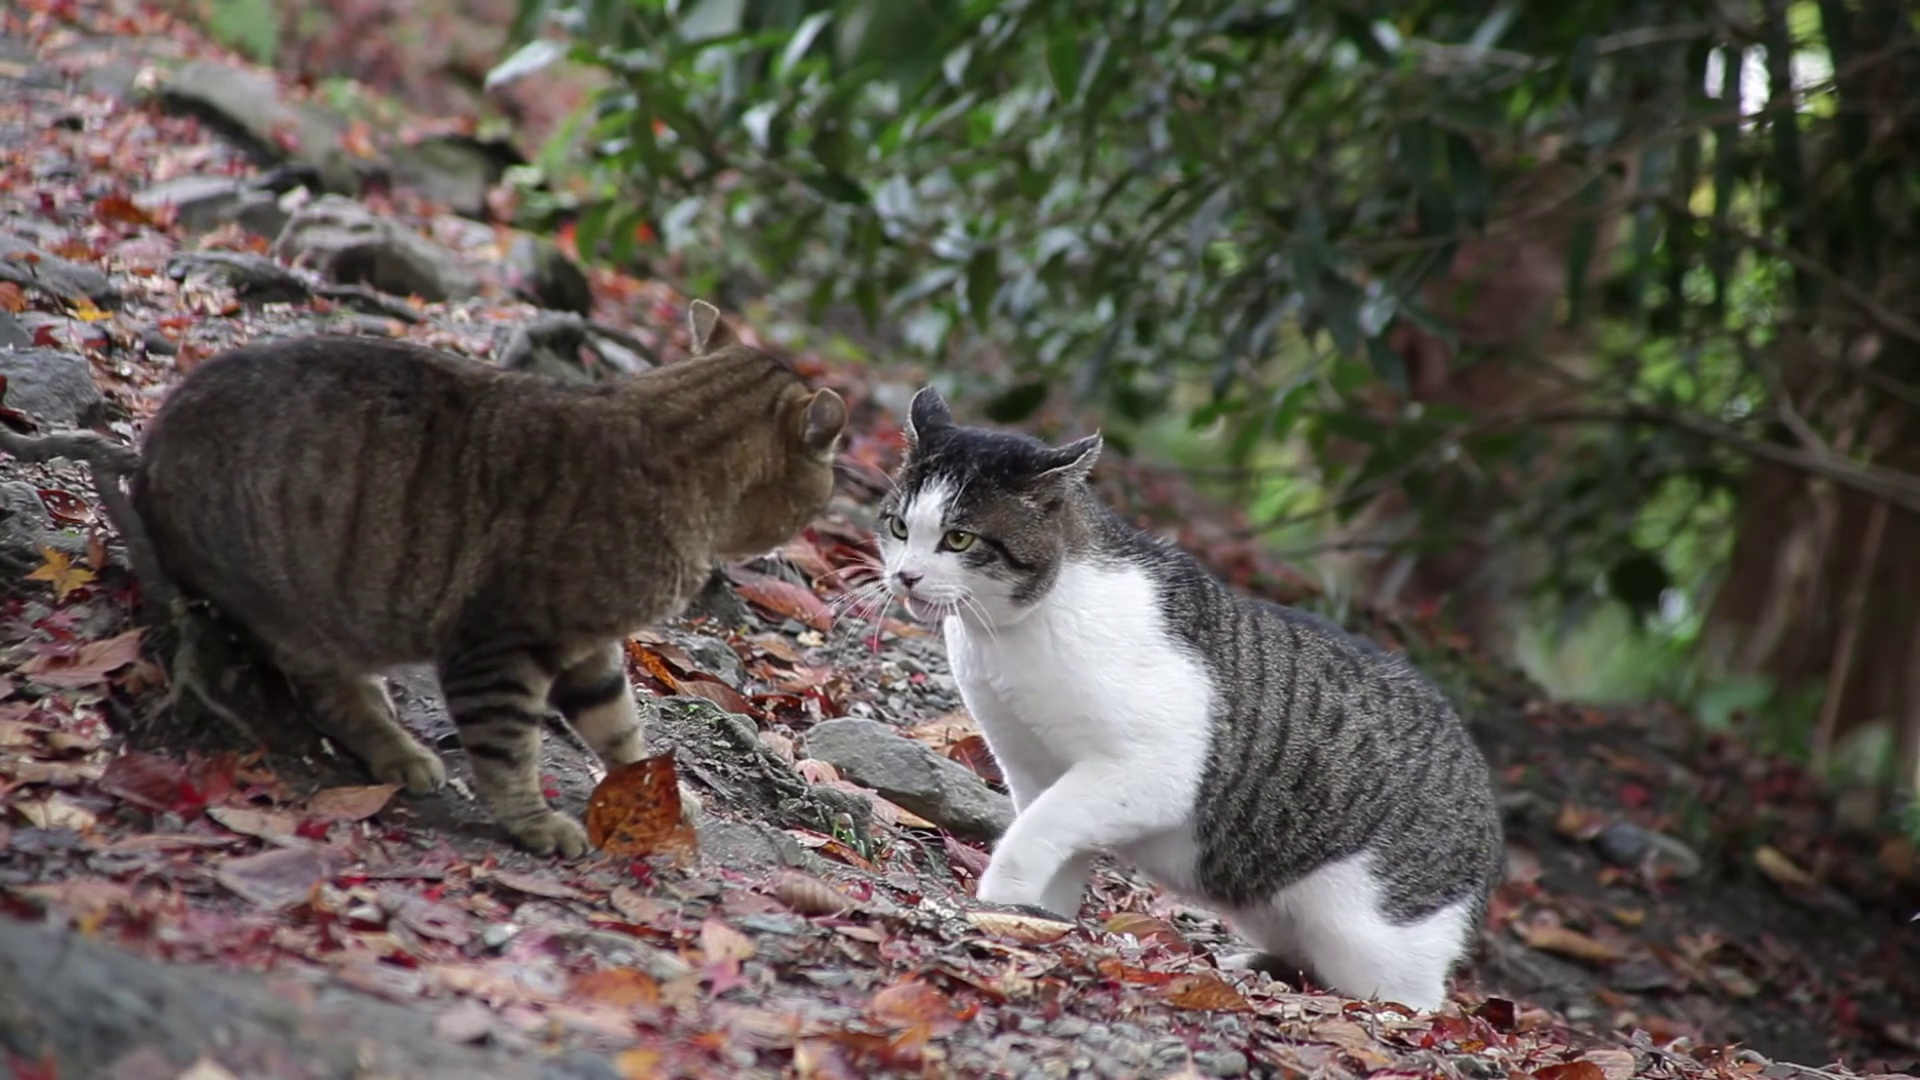black-white: (880, 385, 1501, 1014)
pure black: (135, 298, 849, 861)
